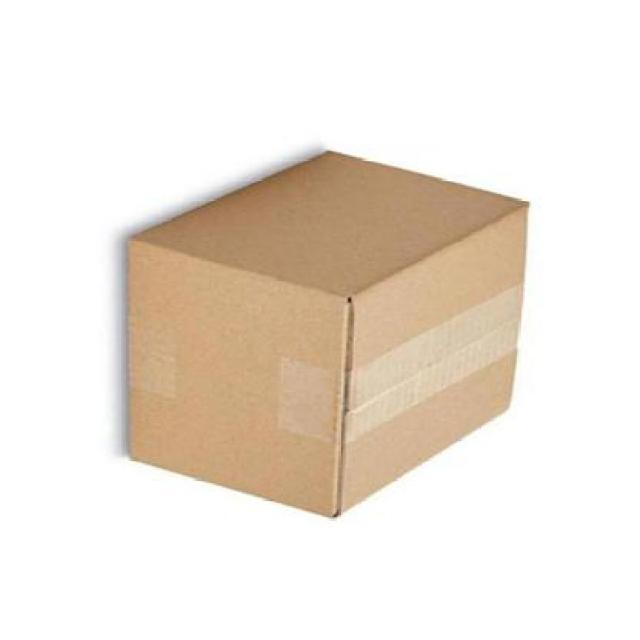normal: (117, 145, 546, 526)
